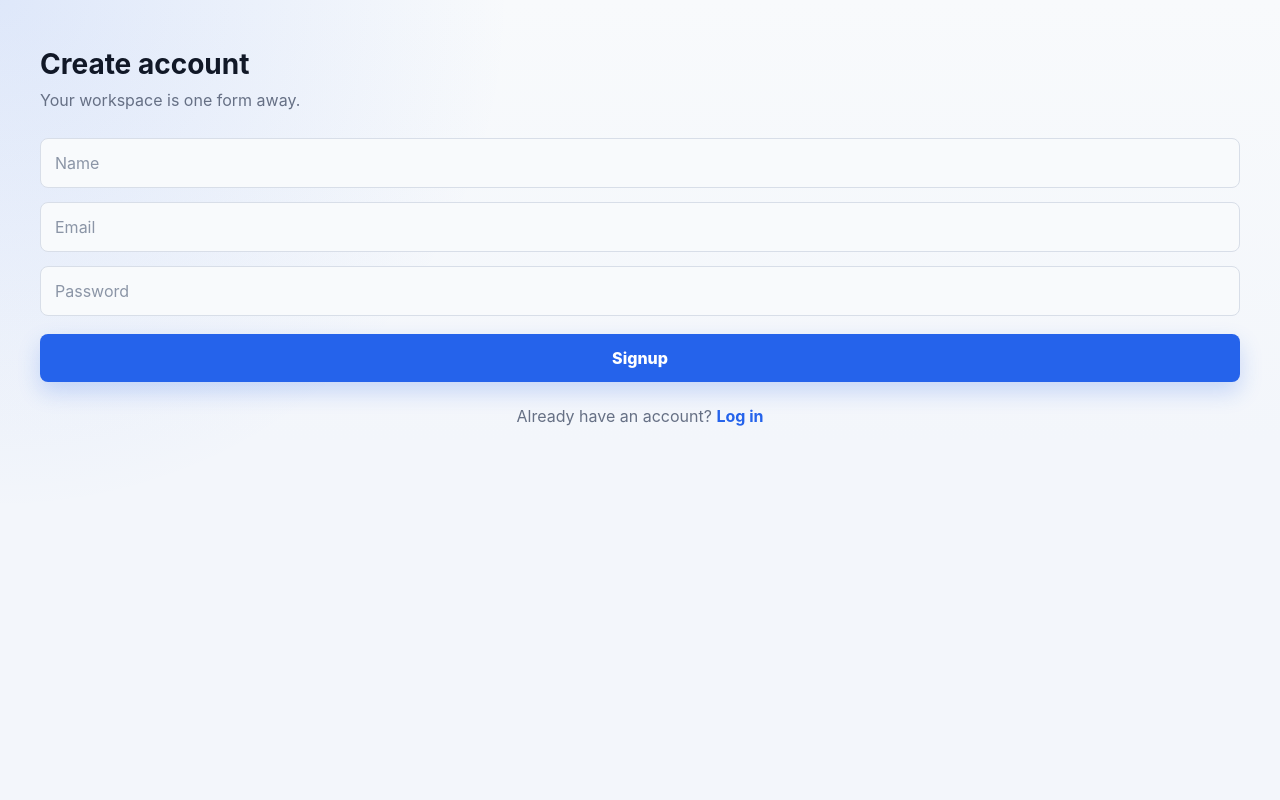
Test: SignupForm › shows clear inline validation errors
This screenshot has width=1280, height=800.
In the field with placeholder "Name": (640, 163) [40,138,1240,188], type "A"
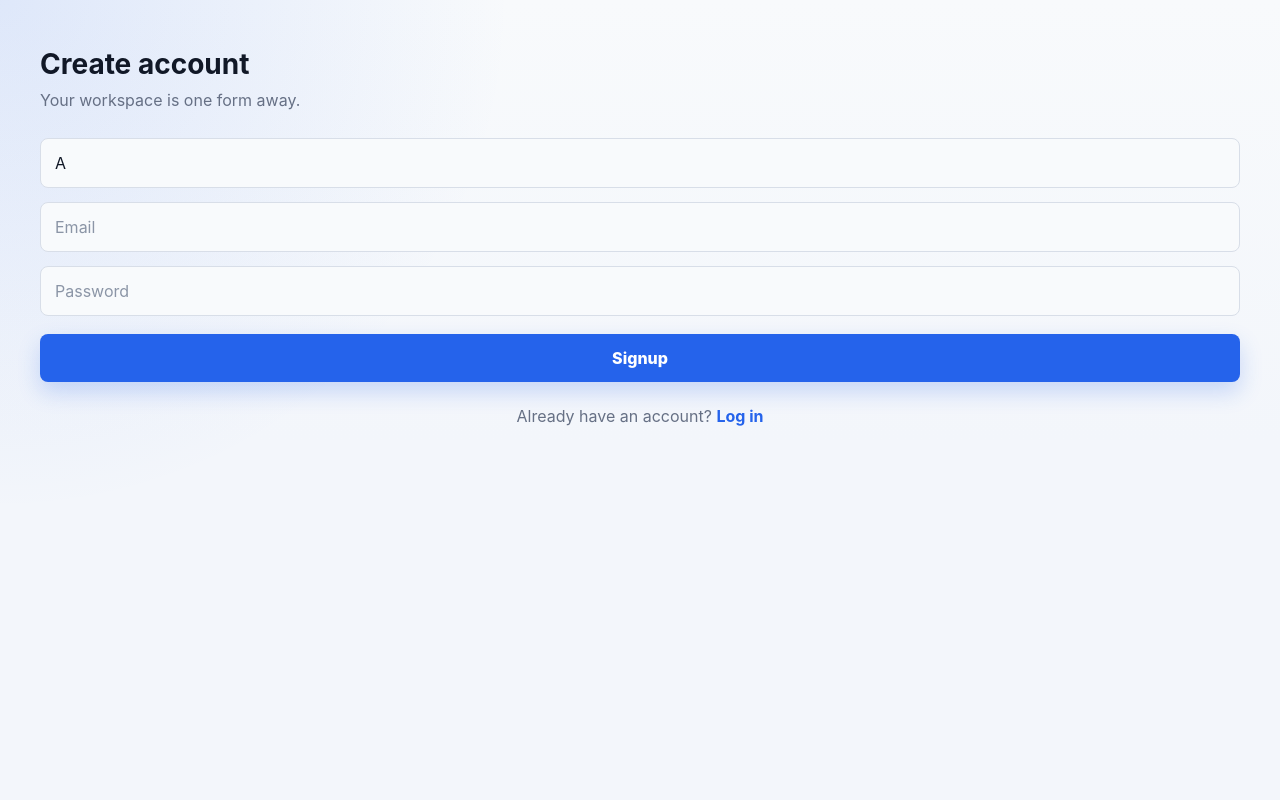
In the field with placeholder "Email": (640, 227) [40,202,1240,252], type "invalid-email"
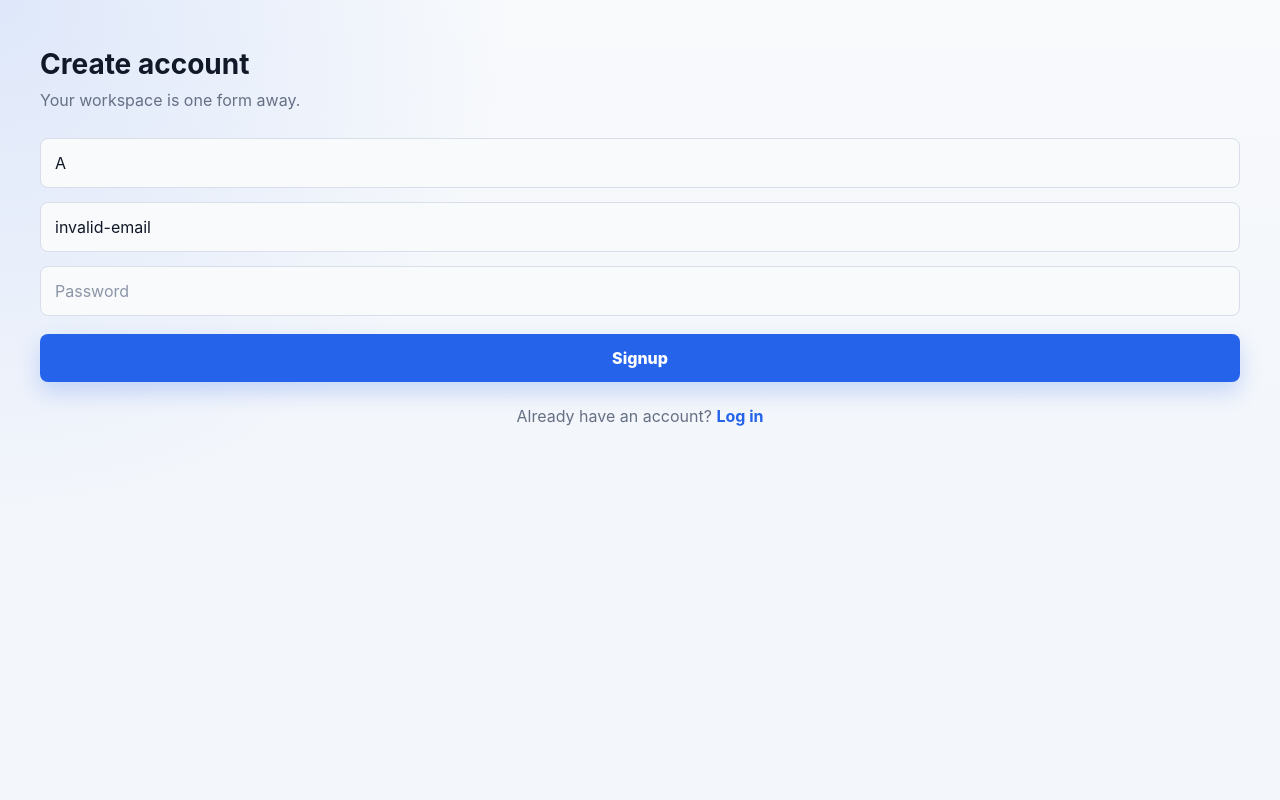
In the password field with placeholder "Password": (640, 291) [40,266,1240,316], type "123"
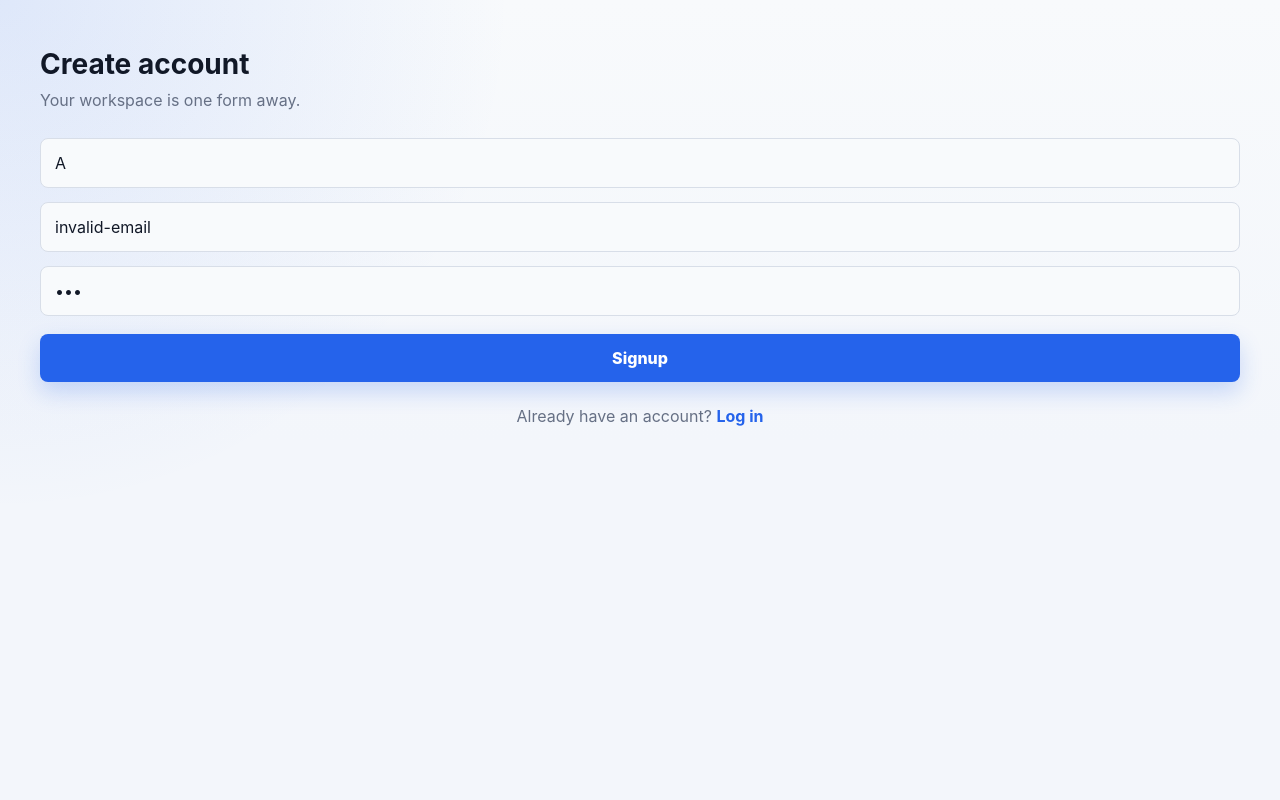
Click the button "Signup": (640, 358) [40,334,1240,382]
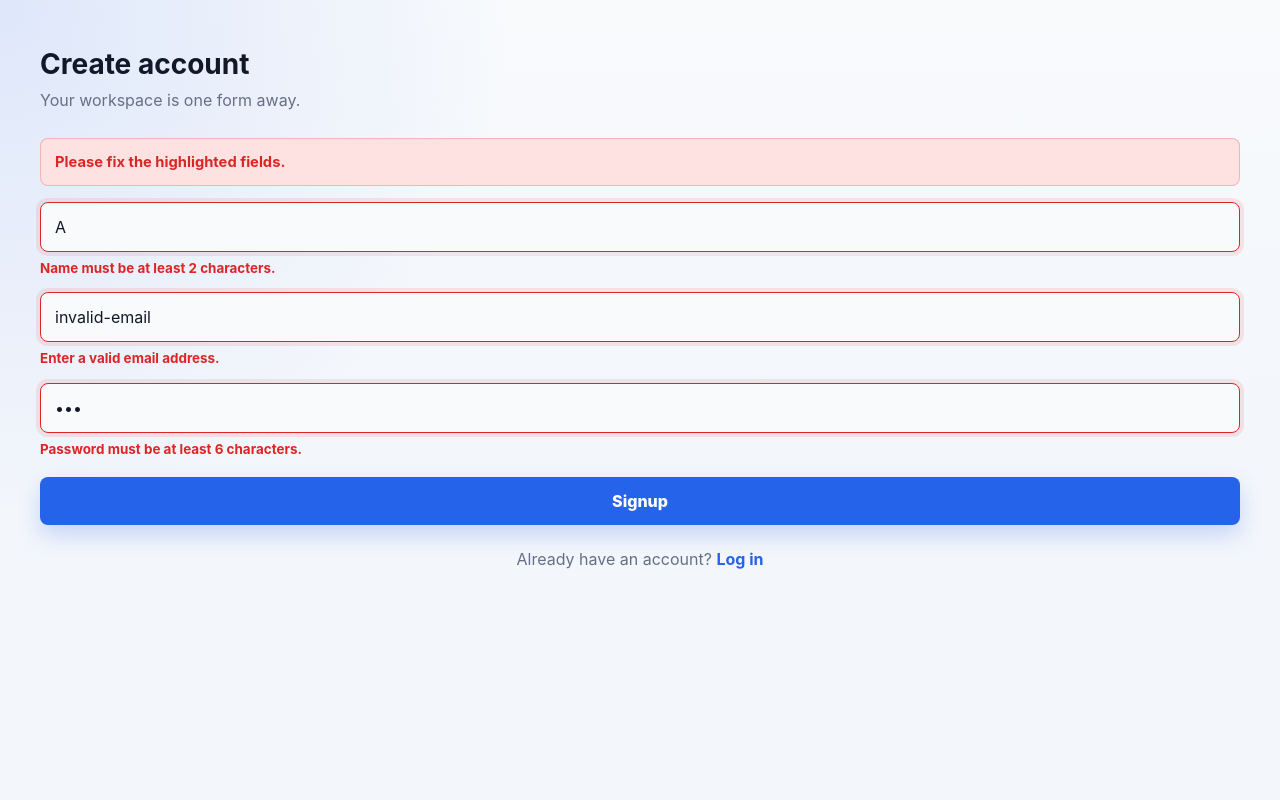
Check: the message reads "Please fix the highlighted fields.", box [55,153,285,171]
Check: the text "Name must be at least 2 characters." is shown, box [40,260,276,276]
Check: the text "Enter a valid email address." is shown, box [40,350,220,366]
